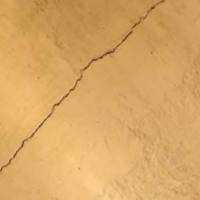crack: (0, 0, 163, 184)
